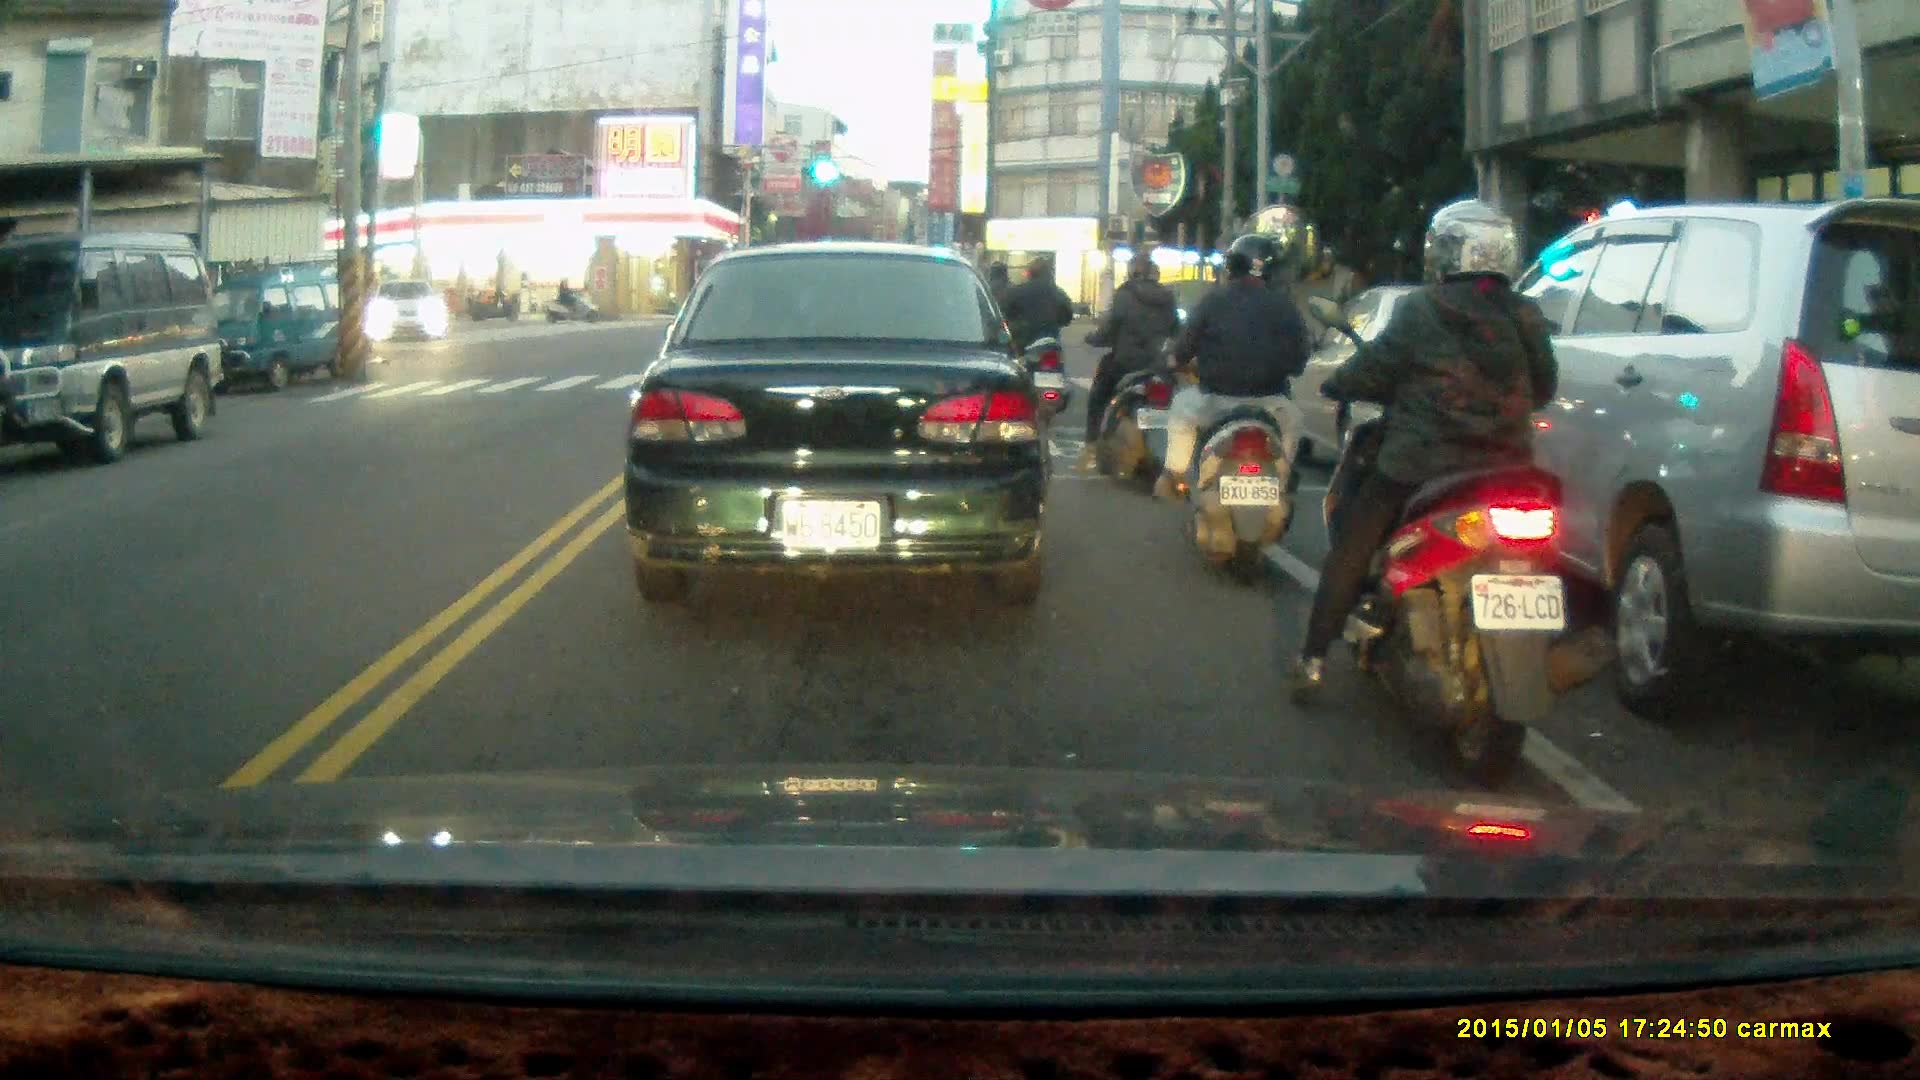rider: (1285, 198, 1585, 768), (1125, 222, 1301, 569), (1063, 254, 1180, 494), (1000, 257, 1074, 428), (975, 260, 1024, 377), (537, 278, 595, 322)
vehicle: (1395, 195, 1920, 713), (620, 239, 1052, 610), (1261, 284, 1561, 508), (1, 234, 214, 458), (187, 262, 367, 397), (371, 277, 450, 343)
